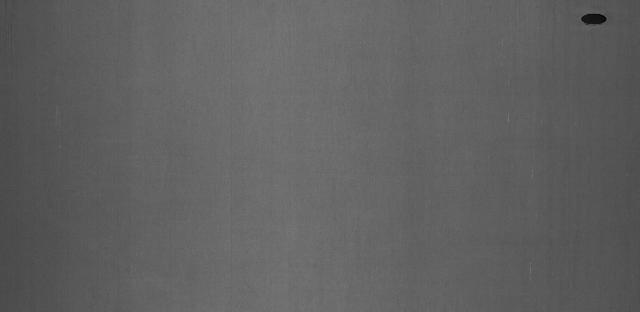punching_hole: (578, 9, 610, 29)
